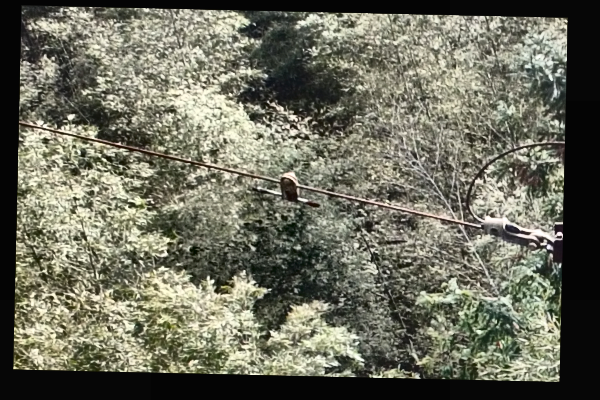damper_defect: (251, 170, 323, 211)
